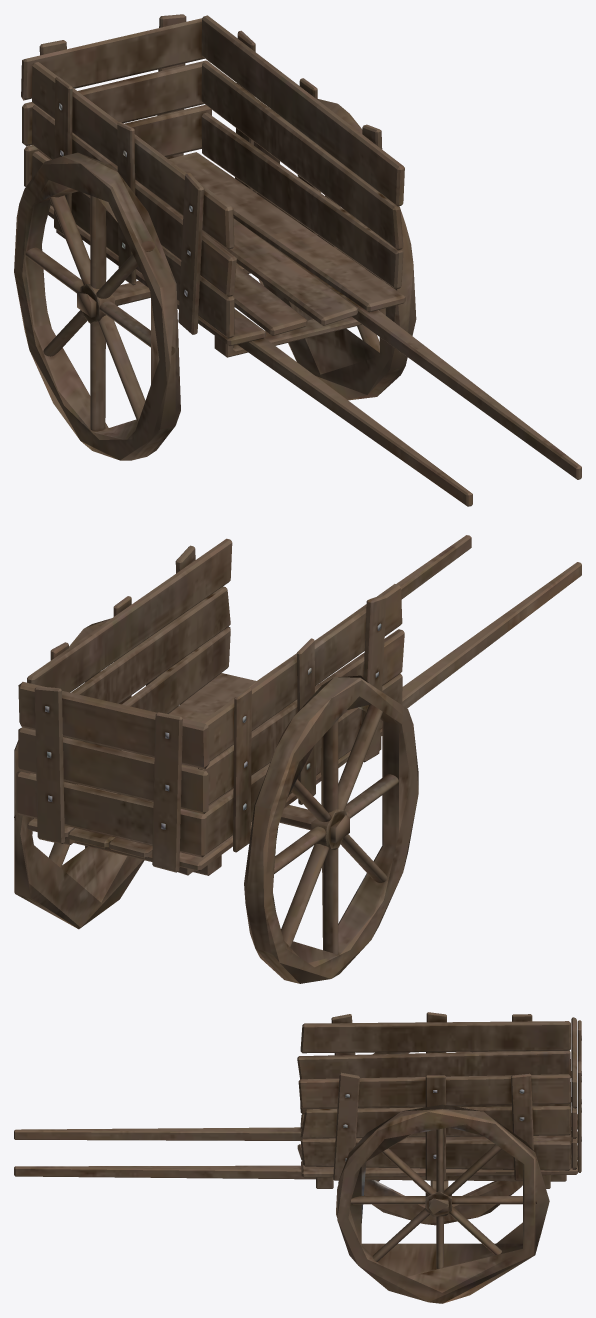
File: old-cart.lod0.glb
3 renders of one model, top to bottom at view 1: azimuth 30°, elevation 25°; view 2: azimuth 150°, elevation 25°; view 3: azimuth 270°, elevation 25°, orthographic. The views are drawn at different scales.
Parts seen in each view (by area): view 1: defaultMaterial; view 2: defaultMaterial; view 3: defaultMaterial.
Boxes of the visible parts, x1,y1,x2,y2 form: defaultMaterial: (14,14,581,506); defaultMaterial: (14,535,581,983); defaultMaterial: (14,1012,581,1303).
Size of the model in its own units: 1.32 by 1.53 by 3.6.
Materials: 1 (1 with a texture image).
